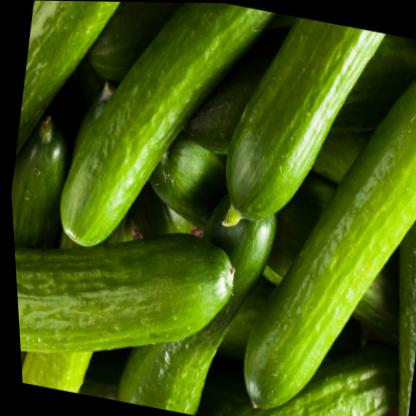cucumber: (212, 37, 416, 416), (37, 0, 299, 285), (199, 4, 406, 262), (9, 195, 251, 392)
